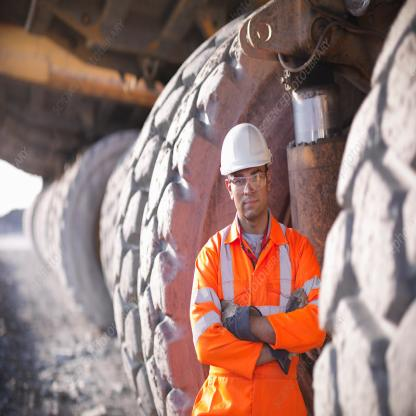person: (180, 96, 333, 416)
